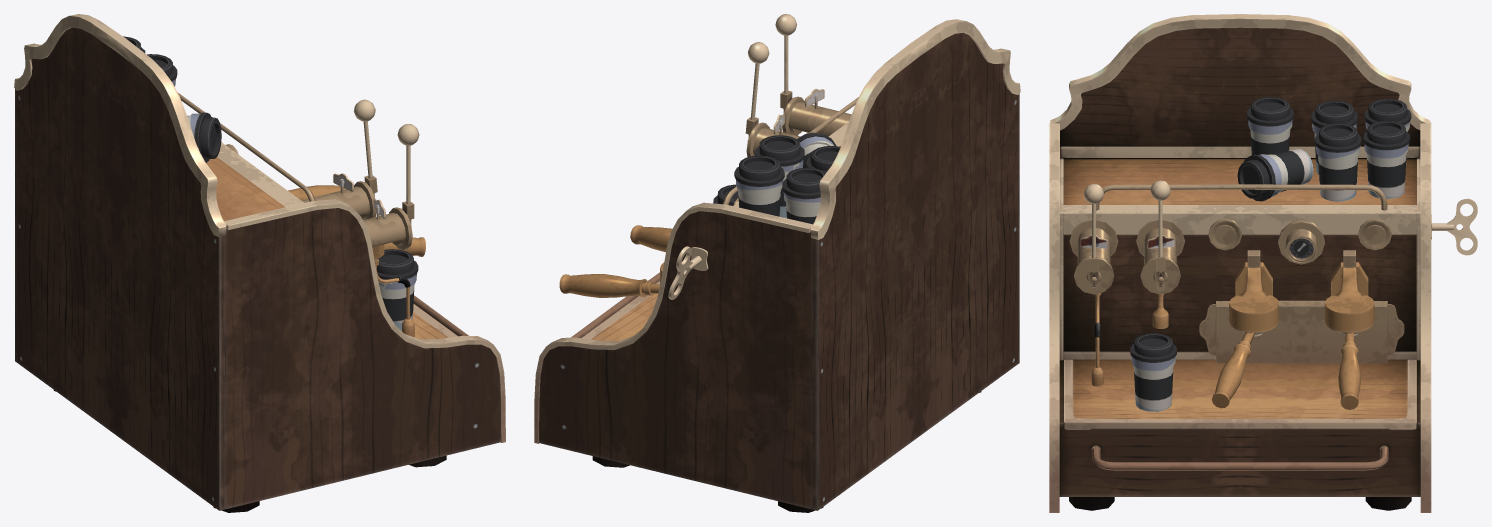
File: CoffeeMachine-exp.fbx
3 views of the same model, side by side, from view 1: azimuth 30°, elevation 25°; view 2: azimuth 150°, elevation 25°; view 3: azimuth 270°, elevation 25° (orthographic). The views are drawn at different scales.
Parts seen in each view (by area): view 1: CoffeeMachine.001, Coffee_cup.007, Coffee_cup.005; view 2: CoffeeMachine.001, Coffee_cup.002, Coffee_cup.001, Coffee_cup.004, Coffee_cup.003, Coffee_cup.005; view 3: CoffeeMachine.001, Coffee_cup.007, Coffee_cup.002, Coffee_cup.004, Coffee_cup.005, Coffee_cup.006, Coffee_cup.003, Coffee_cup.001.
Boxes of the visible parts, box(x1,y1,x2,y2) form: CoffeeMachine.001: box(14, 14, 505, 512); Coffee_cup.007: box(377, 249, 418, 330); Coffee_cup.005: box(187, 112, 221, 162); CoffeeMachine.001: box(534, 14, 1020, 512); Coffee_cup.002: box(734, 155, 784, 216); Coffee_cup.001: box(782, 167, 825, 224); Coffee_cup.004: box(755, 135, 804, 217); Coffee_cup.003: box(806, 146, 840, 172); Coffee_cup.005: box(797, 132, 836, 167); CoffeeMachine.001: box(1049, 14, 1477, 512); Coffee_cup.007: box(1130, 333, 1176, 411); Coffee_cup.002: box(1363, 120, 1410, 198); Coffee_cup.004: box(1314, 123, 1361, 201); Coffee_cup.005: box(1237, 148, 1313, 201); Coffee_cup.006: box(1247, 97, 1293, 155); Coffee_cup.003: box(1311, 100, 1357, 174); Coffee_cup.001: box(1364, 98, 1411, 169).
Size of the model in its own units: 34.85 by 44.46 by 44.91.
